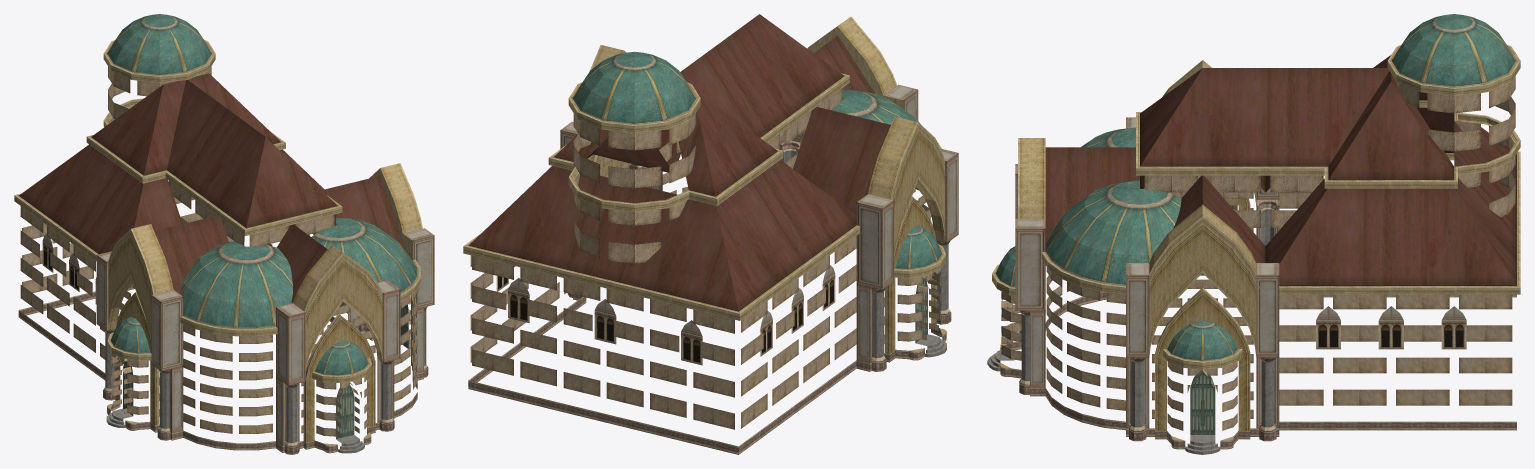
The model's file is thm_nboo_thed_imprv_building_s03_l0.fbx.
3 renders of one model, left to right at view 1: azimuth 30°, elevation 25°; view 2: azimuth 150°, elevation 25°; view 3: azimuth 270°, elevation 25°, orthographic. The views are drawn at different scales.
Visible parts, largest first — view 1: mesh_node; view 2: mesh_node; view 3: mesh_node.
Part boxes in pixels (box(x1,y1,x2,y2)): mesh_node: box(14, 14, 434, 454); mesh_node: box(463, 14, 958, 454); mesh_node: box(987, 14, 1520, 454).
Size of the model in its own units: 38.59 by 34.05 by 47.76.
